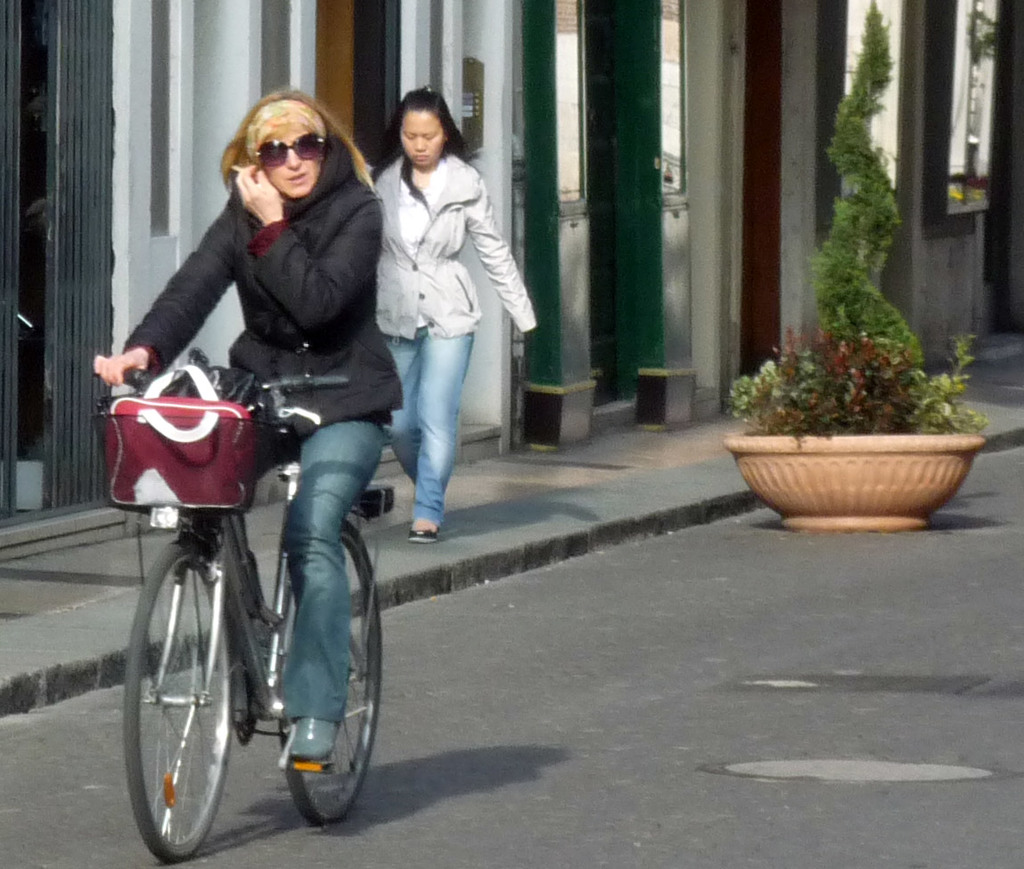Bike: (83, 345, 401, 861)
